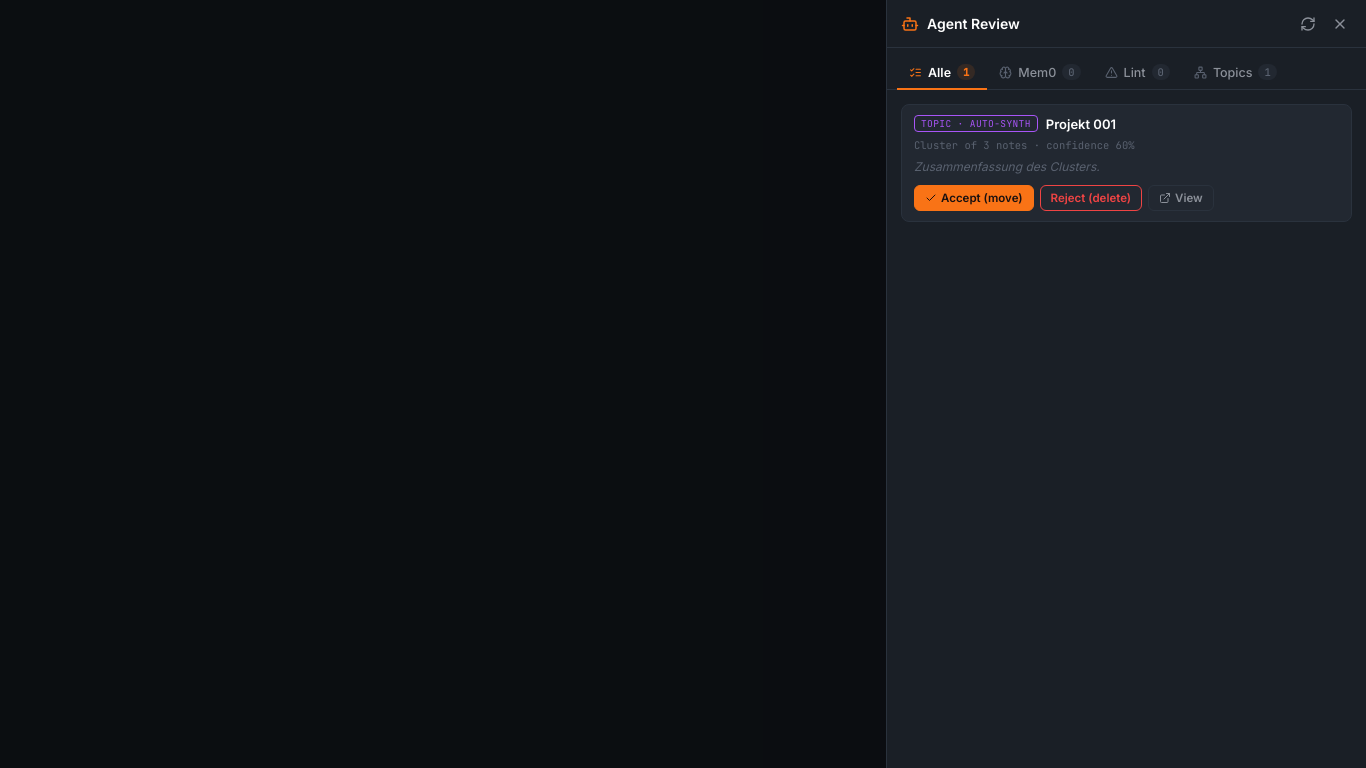
Test: AgentReviewPanel — fehlgeschlagene Aktion › aktualisiert nach einer erfolgreichen Aktion wie bisher
Expected: the text "Projekt 001" is shown, [1046,116,1116,132]
Click the button "Accept (move)": (974, 198) [914,185,1034,211]
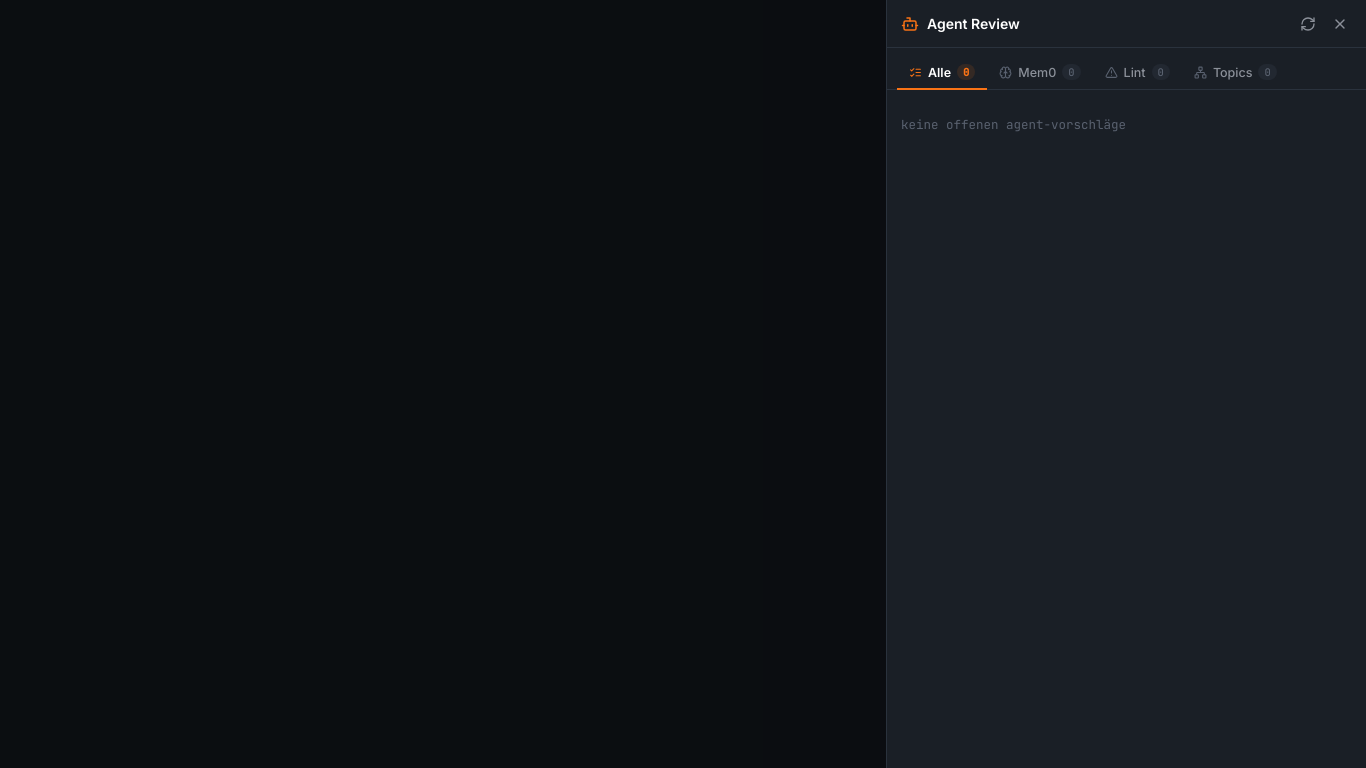
Expected: the text "Projekt 001" is gone
